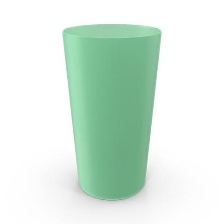glass: (57, 16, 168, 206)
